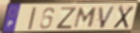6: (39, 7, 56, 30)
I: (27, 6, 38, 31)
M: (72, 7, 99, 29)
V: (98, 5, 117, 29)
X: (112, 5, 136, 30)
Z: (54, 7, 77, 30)
